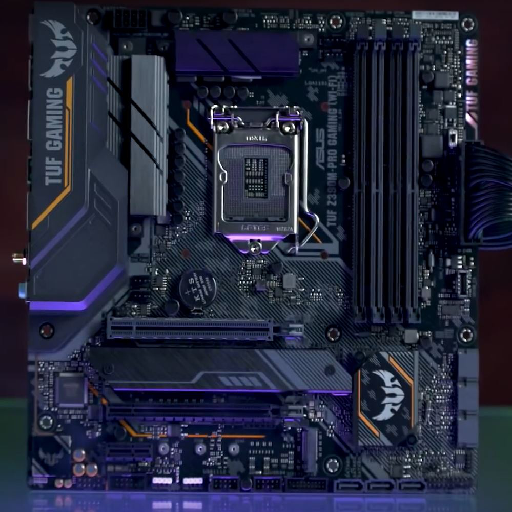CPU: (211, 116, 301, 253)
GPU: (106, 312, 312, 346), (106, 394, 312, 428)
MOTHERBOARD: (25, 3, 478, 496)
RAM: (351, 25, 425, 327)
SSD: (300, 430, 320, 476)
